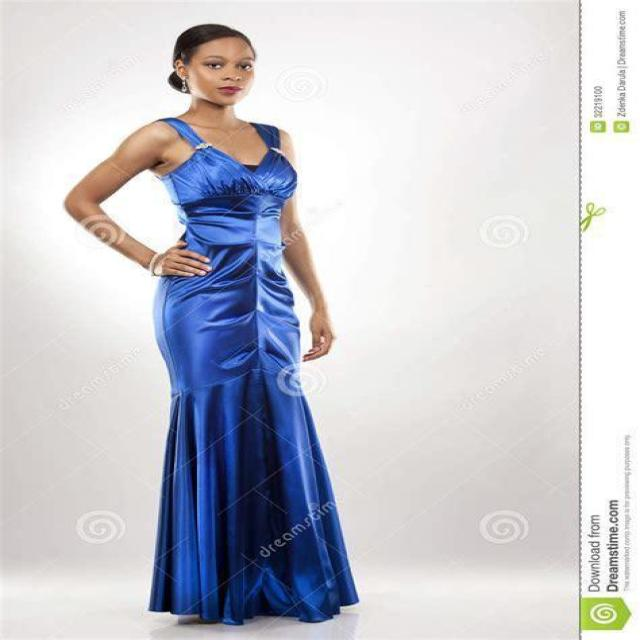dress: (151, 117, 361, 626)
